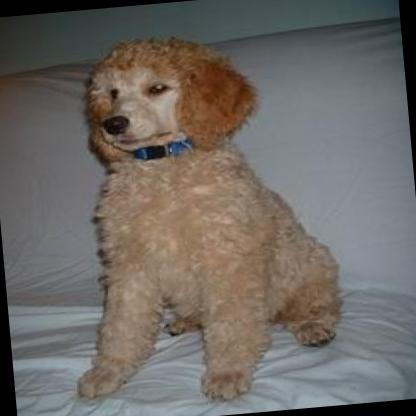standard_poodle: (41, 17, 349, 416)
